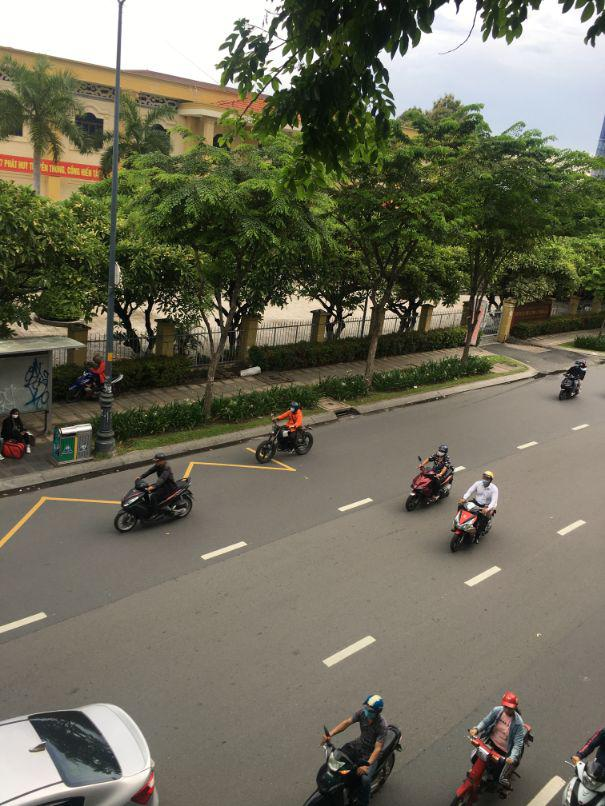car: (0, 702, 158, 805)
motorbike: (449, 699, 535, 805), (304, 732, 375, 805), (114, 472, 195, 535), (257, 414, 313, 462), (448, 501, 496, 551), (405, 467, 453, 512), (559, 361, 586, 399)
